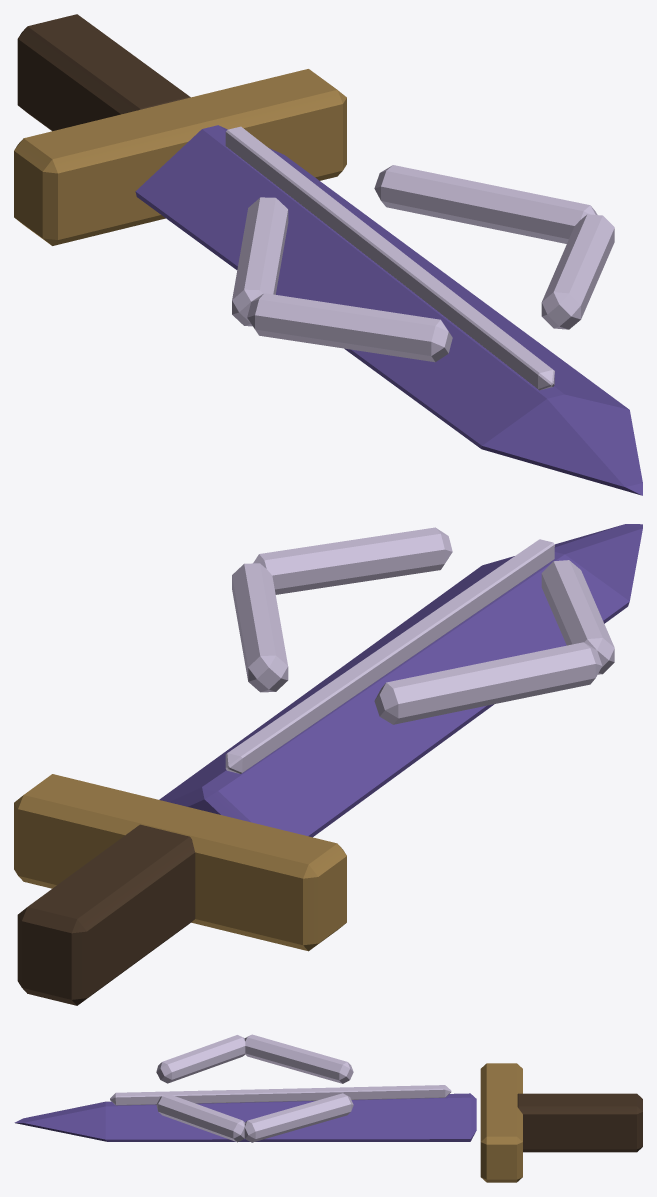
File: warrior_lightning.glb
3 renders of one model, top to bottom at view 1: azimuth 30°, elevation 25°; view 2: azimuth 150°, elevation 25°; view 3: azimuth 270°, elevation 25°, orthographic. The views are drawn at different scales.
Parts seen in each view (by area): view 1: weapon.010; view 2: weapon.010; view 3: weapon.010.
Boxes of the visible parts, x1,y1,x2,y2 form: weapon.010: (14, 14, 642, 495); weapon.010: (14, 524, 642, 1005); weapon.010: (14, 1034, 642, 1182).
Bounding box in the file's own units: 0.5258 × 0.1751 × 1.49.
